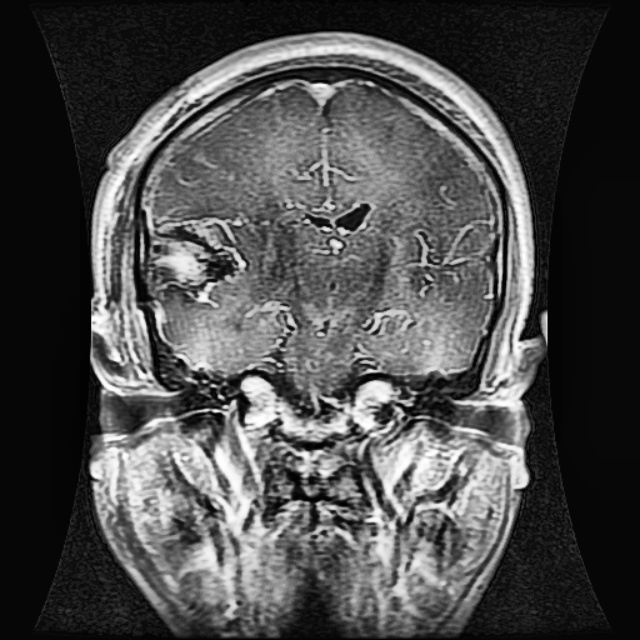Meningioma: (143, 214, 248, 304)
